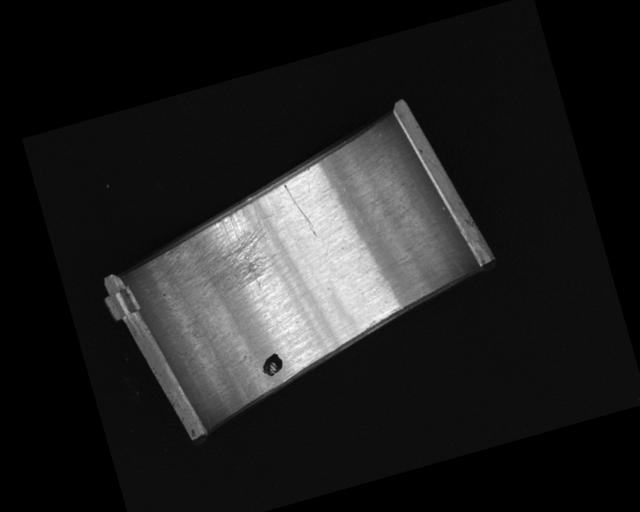blot: (258, 351, 286, 378)
nick: (399, 191, 466, 289), (283, 179, 319, 243)
scratch: (156, 197, 281, 310)
